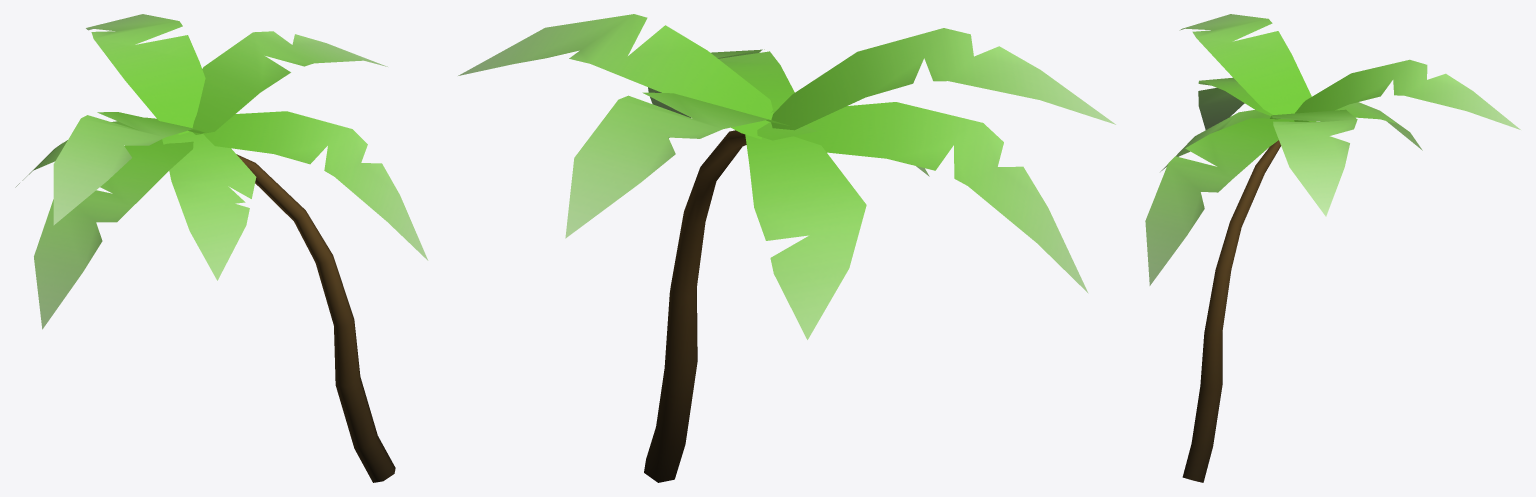
Rendered from Palm tree.fbx.
The picture shows the model from 3 angles, left to right: view 1: azimuth 30°, elevation 25°; view 2: azimuth 150°, elevation 25°; view 3: azimuth 270°, elevation 25°; orthographic projection. The views are drawn at different scales.
Visible parts, largest first — view 1: Plane.001; view 2: Plane.001; view 3: Plane.001.
Boxes of the visible parts, box(x1,y1,x2,y2) form: Plane.001: box(15, 14, 428, 482); Plane.001: box(458, 14, 1115, 482); Plane.001: box(1145, 14, 1520, 482).
Bounding box in the file's own units: 451 × 407 × 394.
